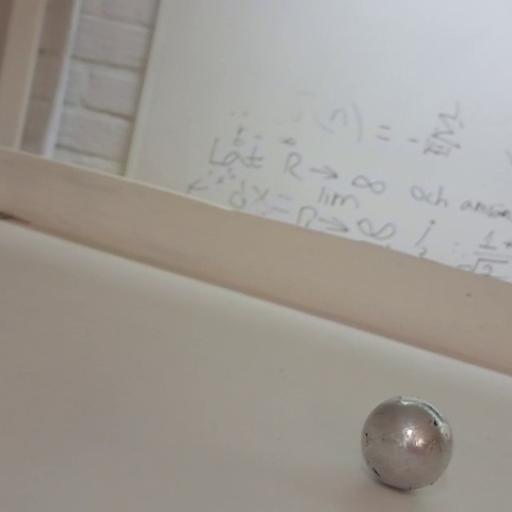alive: (358, 393, 454, 492)
